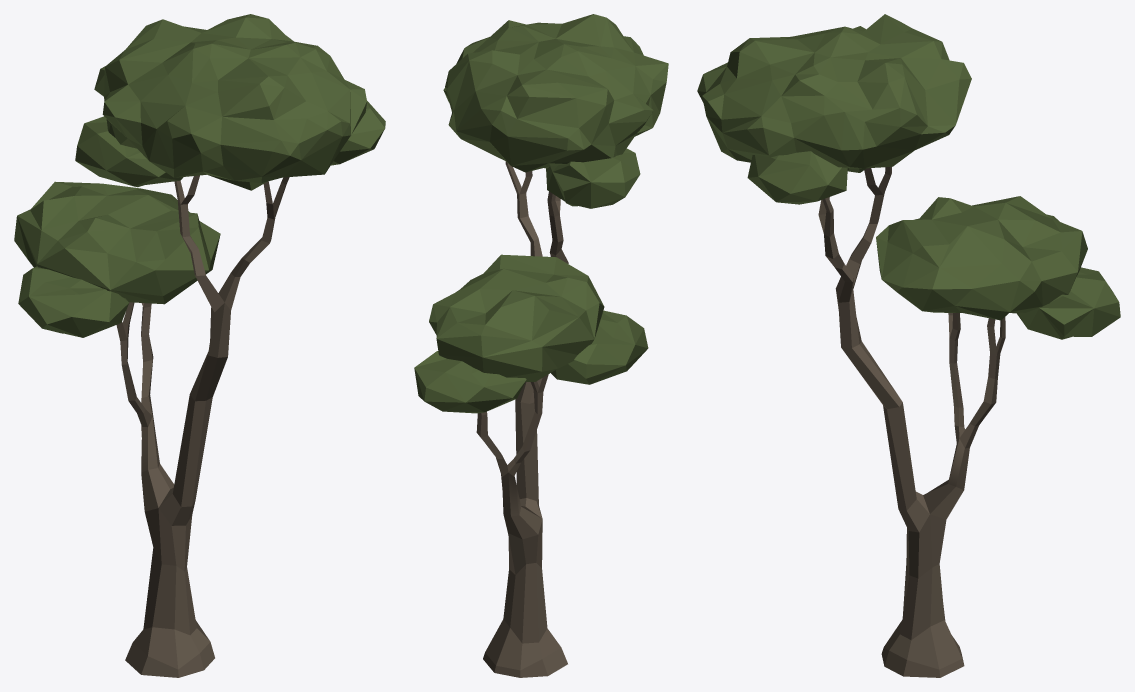
The model's file is Tree_35.gltf.
3 views of the same model, side by side, from view 1: azimuth 30°, elevation 25°; view 2: azimuth 150°, elevation 25°; view 3: azimuth 270°, elevation 25° (orthographic). The views are drawn at different scales.
Parts seen in each view (by area): view 1: Tree_35; view 2: Tree_35; view 3: Tree_35.
Part boxes in pixels (x1,y1,x2,y2): Tree_35: [14, 14, 385, 677]; Tree_35: [414, 14, 668, 677]; Tree_35: [697, 14, 1120, 677].
Size of the model in its own units: 0.6068 by 1.35 by 0.8233.
Materials: 1 (1 with a texture image).
